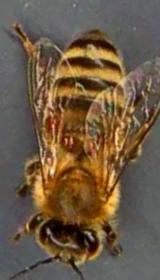varroa_mite: (30, 96, 61, 145), (56, 128, 86, 156)
